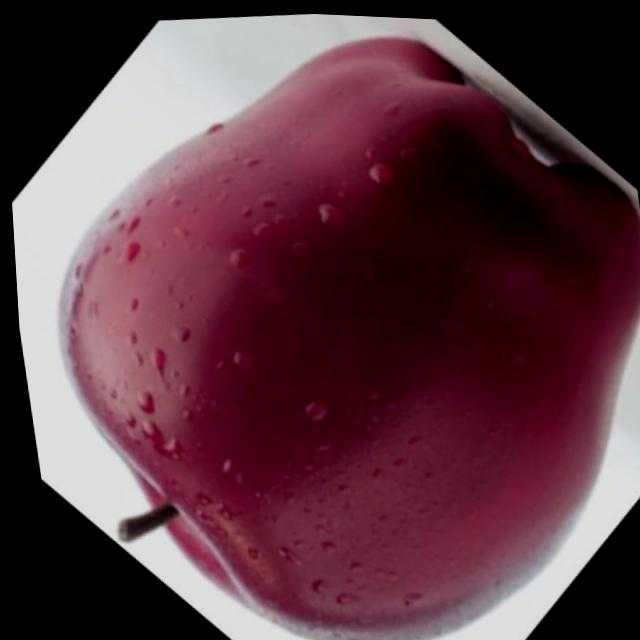Apple: (12, 0, 640, 640)
